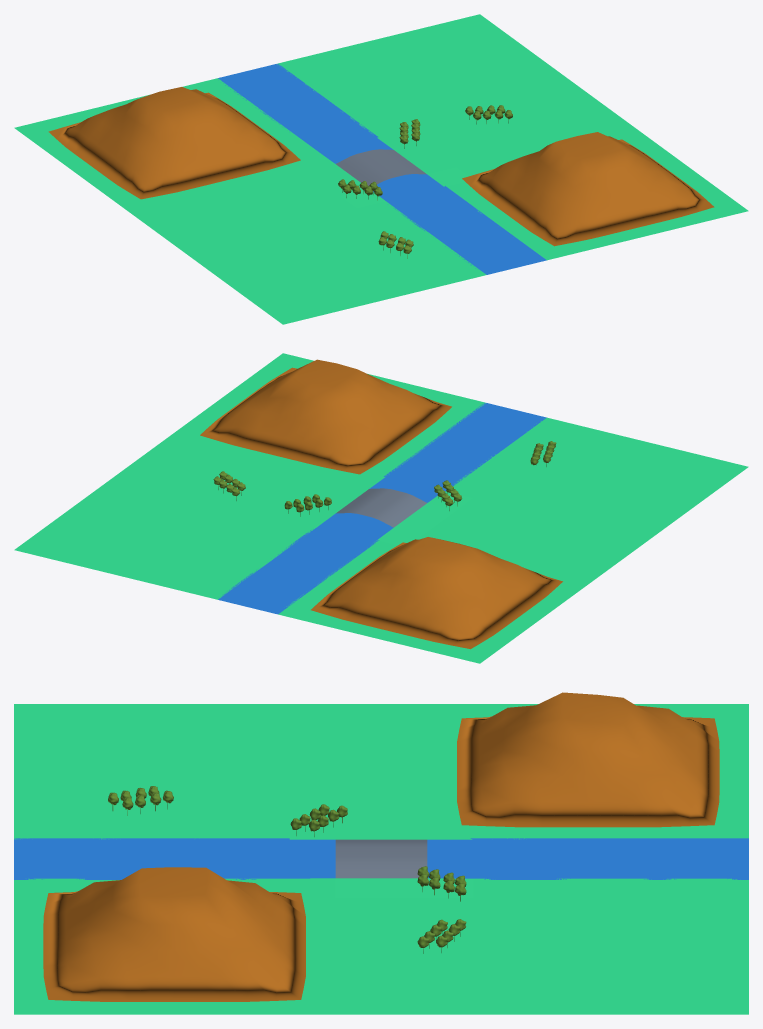
Rendered from map.fbx.
3 views of the same model, one above another, from view 1: azimuth 30°, elevation 25°; view 2: azimuth 150°, elevation 25°; view 3: azimuth 270°, elevation 25° (orthographic). The views are drawn at different scales.
Visible parts, largest first — view 1: Ground, Mounts, River, Bridge, Trees; view 2: Ground, Mounts, River, Bridge, Trees; view 3: Ground, Mounts, River, Bridge, Trees.
Boxes of the visible parts, box(x1,y1,x2,y2) form: Ground: box(14, 14, 748, 324); Mounts: box(48, 87, 714, 246); River: box(218, 63, 546, 274); Bridge: box(336, 149, 426, 186); Trees: box(338, 105, 512, 258); Ground: box(14, 353, 748, 663); Mounts: box(200, 359, 562, 649); River: box(218, 403, 546, 614); Bridge: box(336, 488, 426, 527); Trees: box(213, 441, 556, 516); Ground: box(14, 704, 748, 1014); Mounts: box(43, 692, 719, 1001); River: box(14, 838, 748, 879); Bridge: box(335, 839, 427, 878); Trees: box(108, 786, 466, 953).
Size of the model in its own units: 6000 by 594 by 6000.
